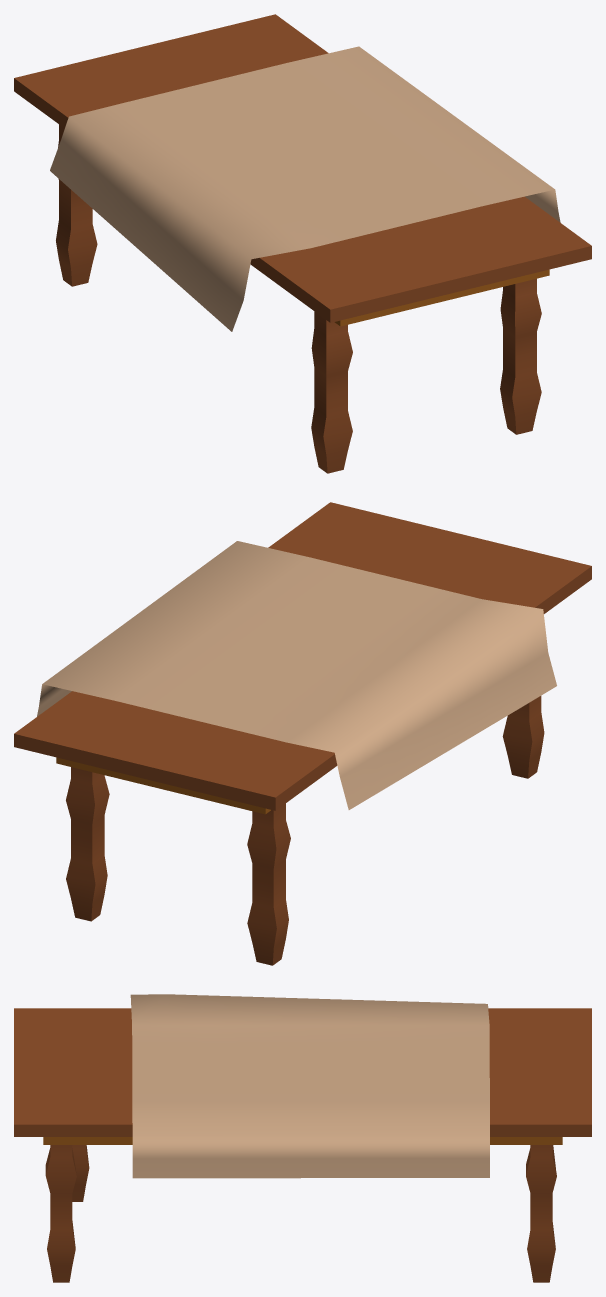
Rendered from Meja.dae.
3 renders of one model, top to bottom at view 1: azimuth 30°, elevation 25°; view 2: azimuth 150°, elevation 25°; view 3: azimuth 270°, elevation 25°, orthographic. The views are drawn at different scales.
Parts seen in each view (by area): view 1: pPlane1, pCube3, pasted__pasted__pasted__pCube4, pCube4, pasted__pasted__pCube4, pasted__pCube3; view 2: pPlane1, pCube3, pasted__pasted__pCube4, pasted__pCube4, pasted__pasted__pasted__pCube4, pasted__pCube3; view 3: pPlane1, pCube3, pCube4, pasted__pCube4, pasted__pCube3, pasted__pasted__pasted__pCube4.
Boxes of the visible parts, x1=… form: pPlane1: x1=50, y1=46, x2=560, y2=331; pCube3: x1=14, y1=14, x2=591, y2=322; pasted__pasted__pasted__pCube4: x1=311, y1=311, x2=352, y2=473; pCube4: x1=500, y1=278, x2=541, y2=434; pasted__pasted__pCube4: x1=56, y1=124, x2=97, y2=286; pasted__pCube3: x1=334, y1=269, x2=549, y2=326; pPlane1: x1=37, y1=541, x2=556, y2=809; pCube3: x1=14, y1=502, x2=591, y2=810; pasted__pasted__pCube4: x1=247, y1=803, x2=290, y2=965; pasted__pCube4: x1=66, y1=767, x2=109, y2=921; pasted__pasted__pasted__pCube4: x1=502, y1=696, x2=544, y2=778; pasted__pCube3: x1=56, y1=757, x2=270, y2=814; pPlane1: x1=130, y1=994, x2=489, y2=1178; pCube3: x1=14, y1=1008, x2=591, y2=1136; pCube4: x1=45, y1=1145, x2=76, y2=1282; pasted__pCube4: x1=526, y1=1145, x2=556, y2=1282; pasted__pCube3: x1=43, y1=1137, x2=562, y2=1144; pasted__pasted__pasted__pCube4: x1=72, y1=1145, x2=89, y2=1201.
Size of the model in its own units: 4.55 by 2.65 by 7.59.
